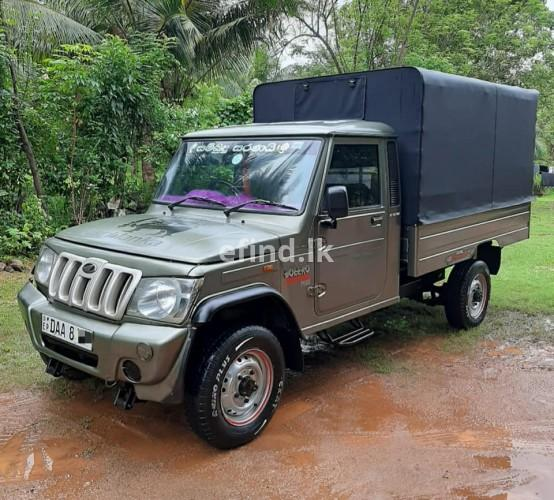truck: (17, 65, 538, 451)
